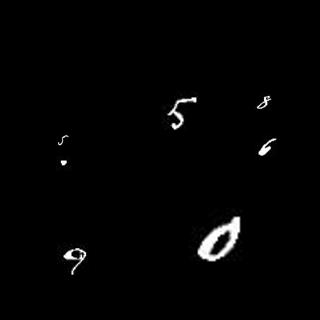dot: (59, 158, 70, 166)
eight: (255, 93, 277, 110)
five: (166, 94, 197, 131), (57, 131, 70, 147)
nine: (62, 242, 86, 275)
six: (256, 135, 278, 158)
zero: (197, 213, 250, 261)
